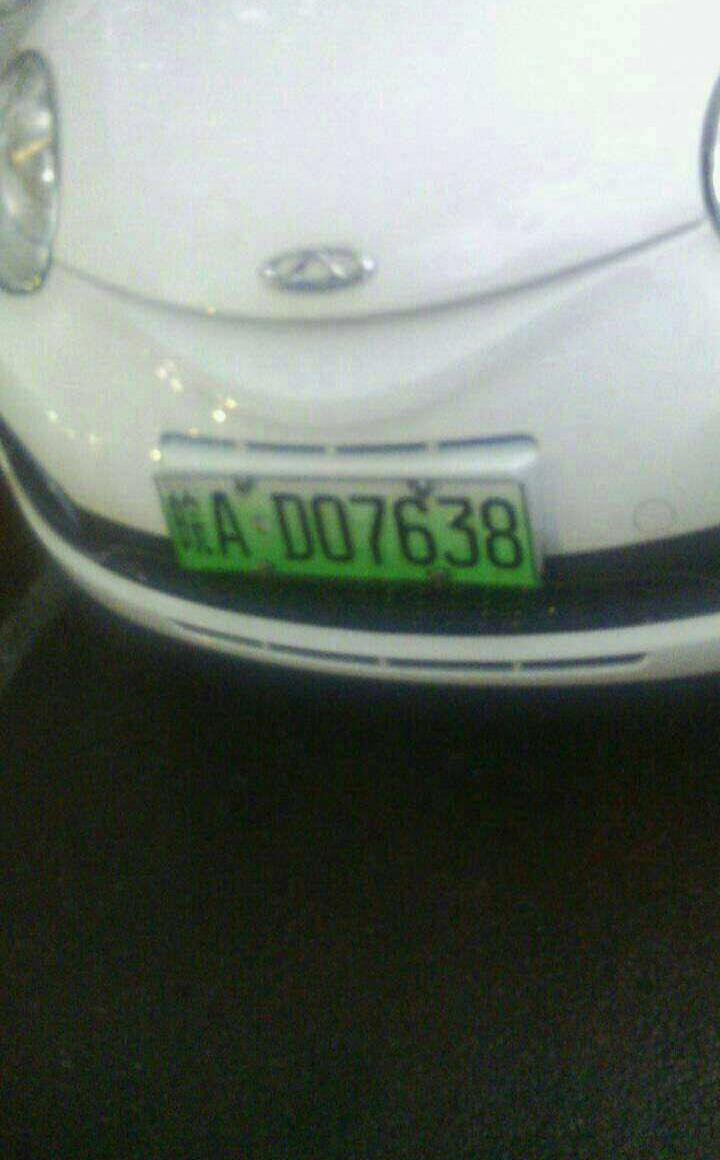car_id: (157, 469, 544, 585)
